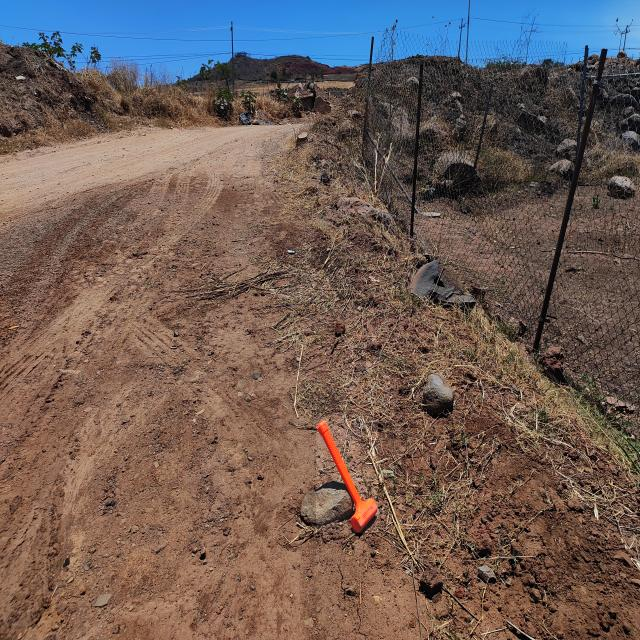Orange_hammer: (316, 419, 378, 533)
